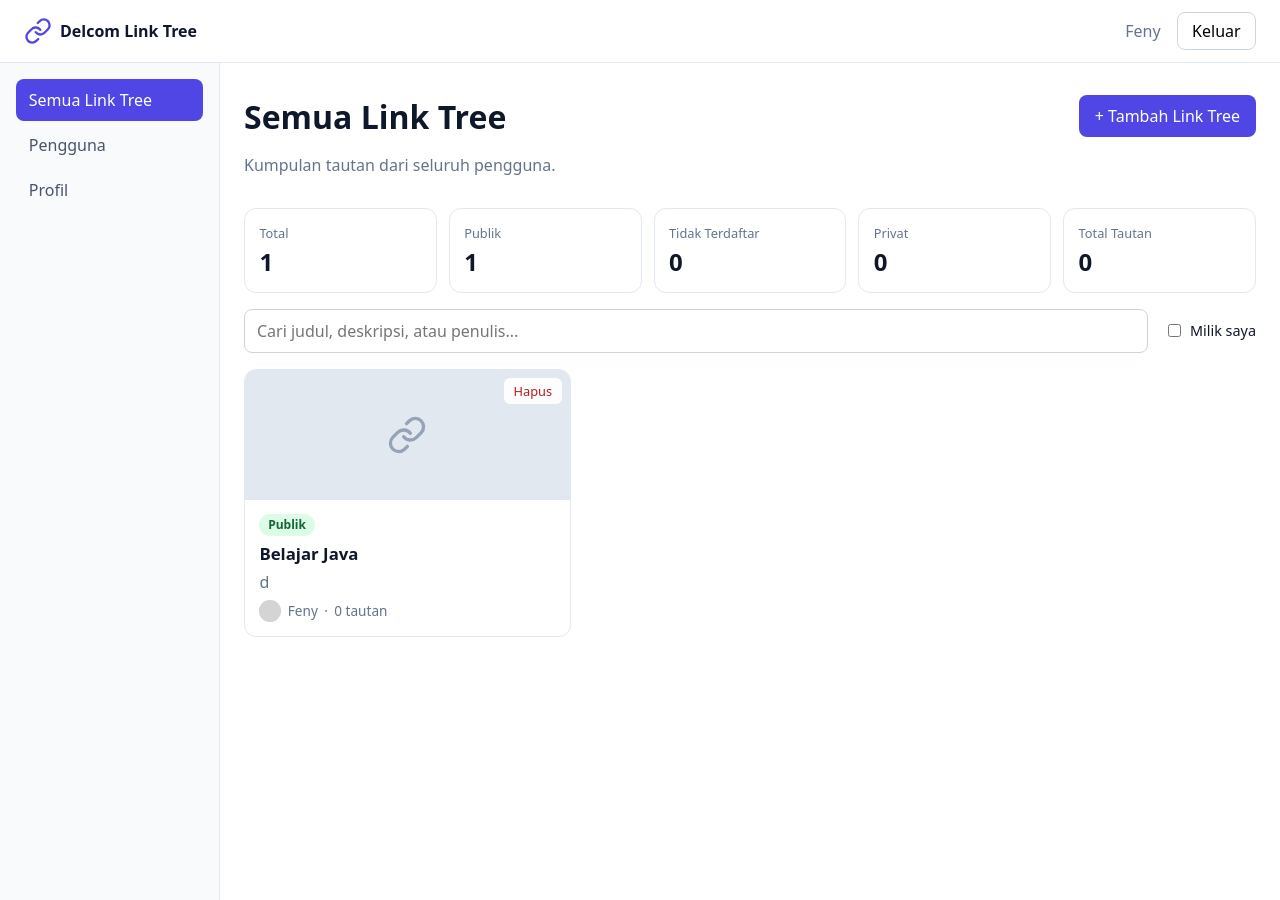
Test case: App: pengguna login › Keluar mengembalikan ke halaman masuk
The width and height of the screenshot is (1280, 900).
Expected: the link "Belajar Java" is shown, [259,542,358,565]
Click the button "Keluar": (1216, 31) [1177,12,1256,50]
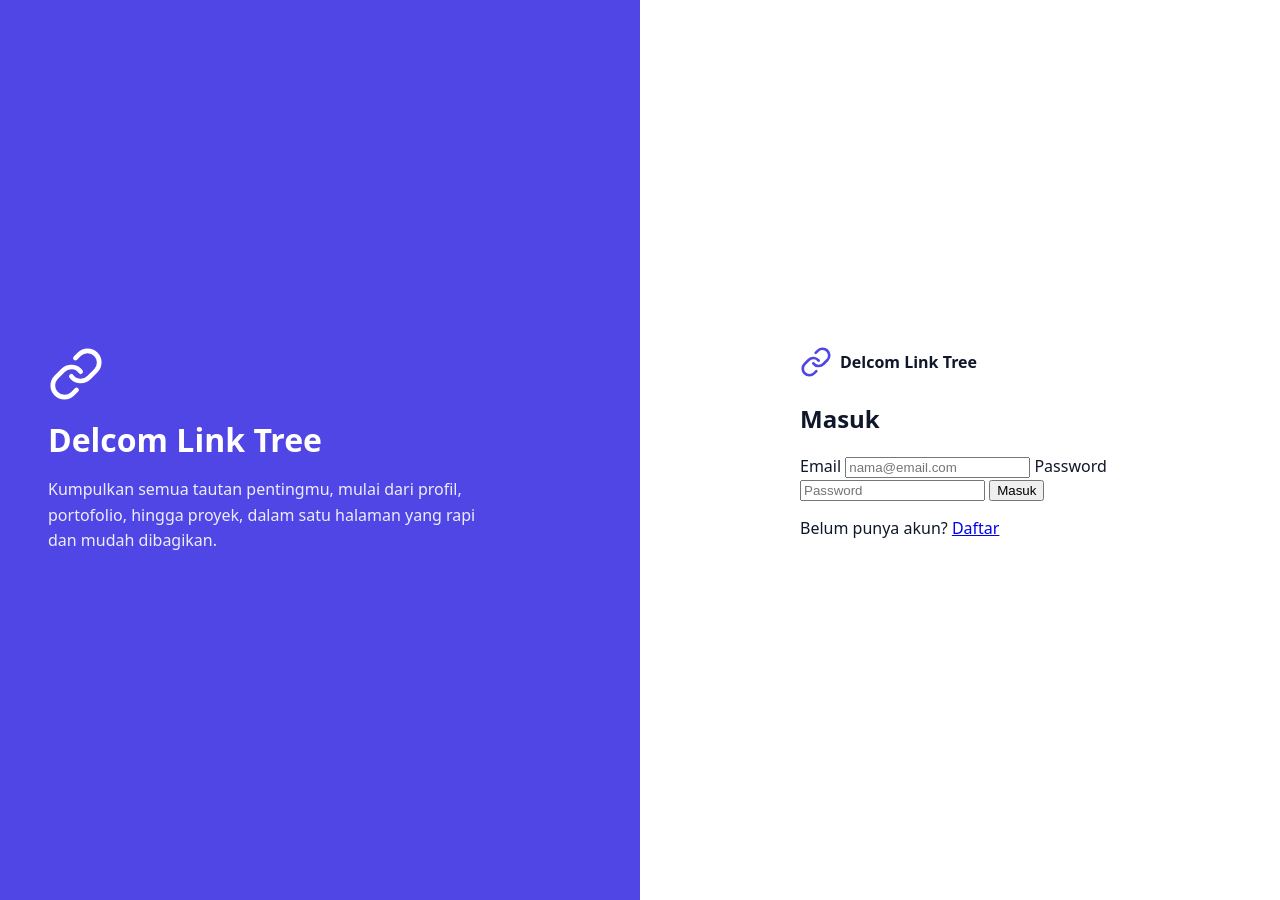
Now the heading "Masuk" is shown, box [800,402,880,434]
